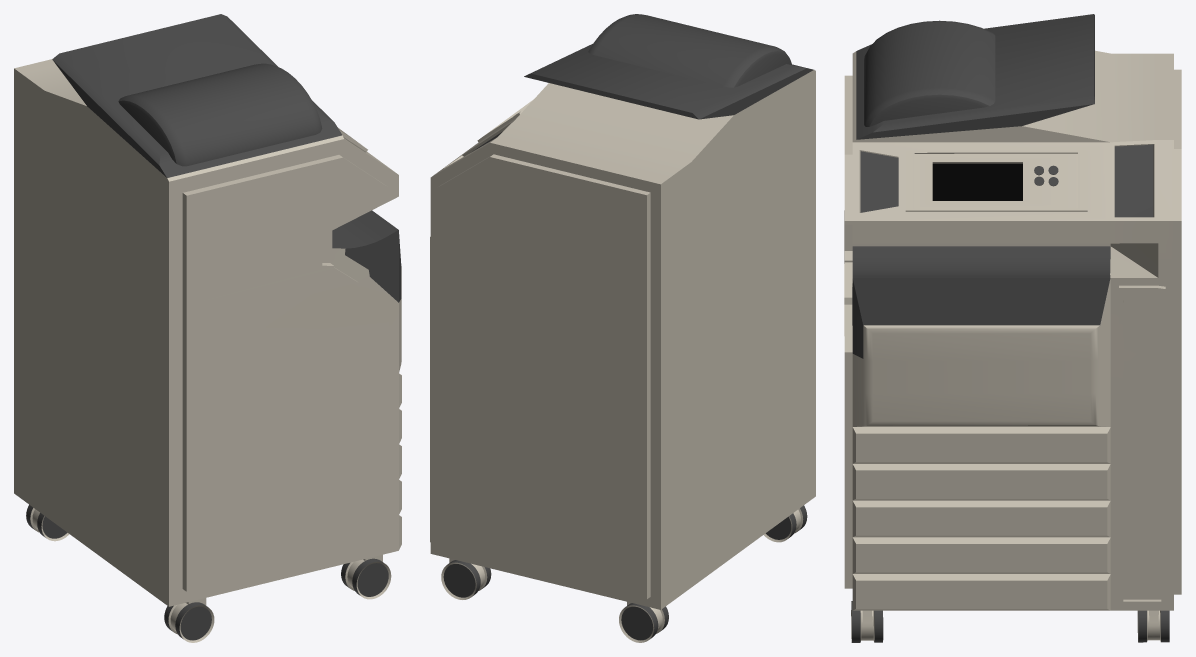
File: PrinterStanding.fbx
3 views of the same model, side by side, from view 1: azimuth 30°, elevation 25°; view 2: azimuth 150°, elevation 25°; view 3: azimuth 270°, elevation 25° (orthographic). The views are drawn at different scales.
Visible parts, largest first — view 1: PrinterStanding; view 2: PrinterStanding; view 3: PrinterStanding.
Boxes of the visible parts, x1,y1,x2,y2 form: PrinterStanding: [14, 14, 401, 642]; PrinterStanding: [430, 14, 815, 642]; PrinterStanding: [844, 14, 1181, 642].
Bounding box in the file's own units: 93.63 × 189 × 110.
